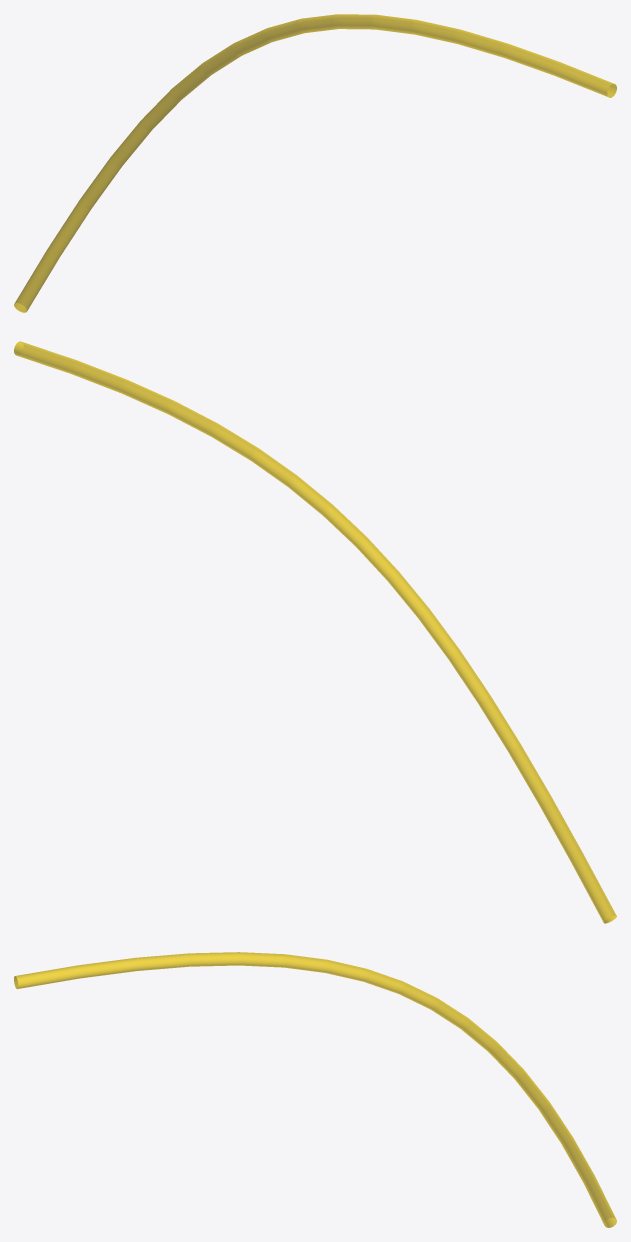
Rendered from Event_15818458_track_72.fbx.
3 views of the same model, one above another, from view 1: azimuth 30°, elevation 25°; view 2: azimuth 210°, elevation 25°; view 3: azimuth 270°, elevation 25° (orthographic). The views are drawn at different scales.
Parts seen in each view (by area): view 1: Model; view 2: Model; view 3: Model.
Part boxes in pixels (<box>): Model: <box>14,14,616,312</box>; Model: <box>14,341,616,923</box>; Model: <box>14,952,616,1227</box>.
Bounding box in the file's own units: 0.8502 × 1.2 × 1.79.
